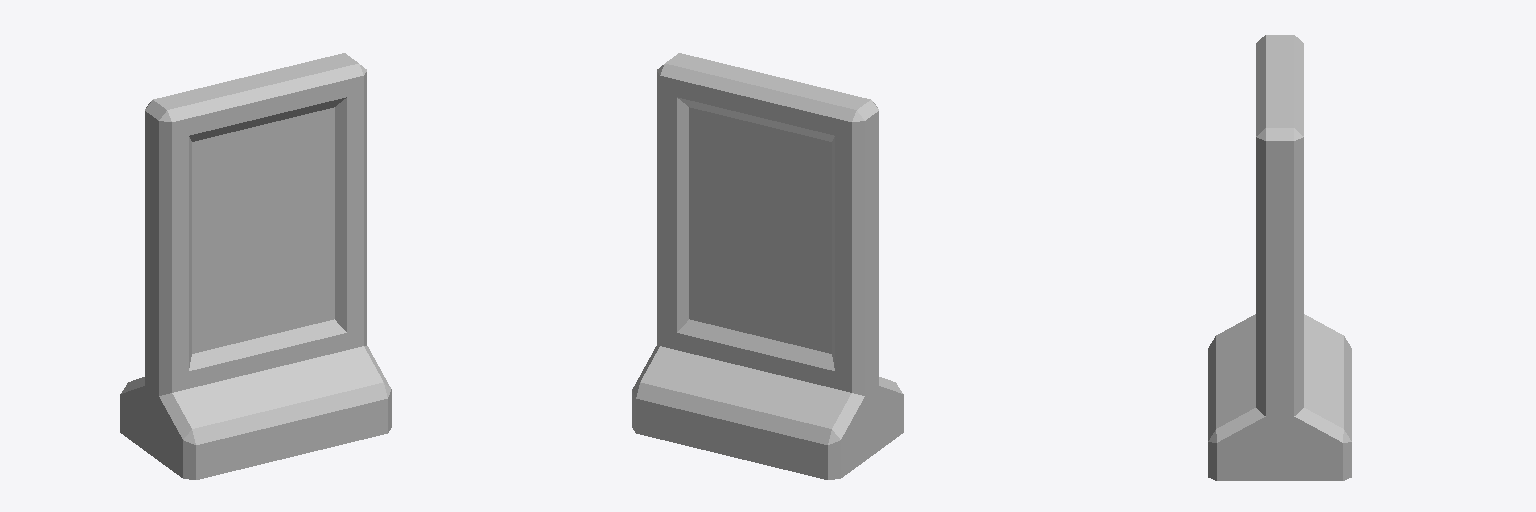
File: menu.obj
3 views of the same model, side by side, from view 1: azimuth 30°, elevation 25°; view 2: azimuth 150°, elevation 25°; view 3: azimuth 270°, elevation 25° (orthographic).
Visible parts, largest first — view 1: menu_Cube.18195; view 2: menu_Cube.18195; view 3: menu_Cube.18195.
Boxes of the visible parts, x1=… form: menu_Cube.18195: x1=120, y1=53, x2=391, y2=479; menu_Cube.18195: x1=632, y1=53, x2=903, y2=479; menu_Cube.18195: x1=1208, y1=35, x2=1351, y2=480.
Bounding box in the file's own units: 0.5 × 0.8 × 0.3.